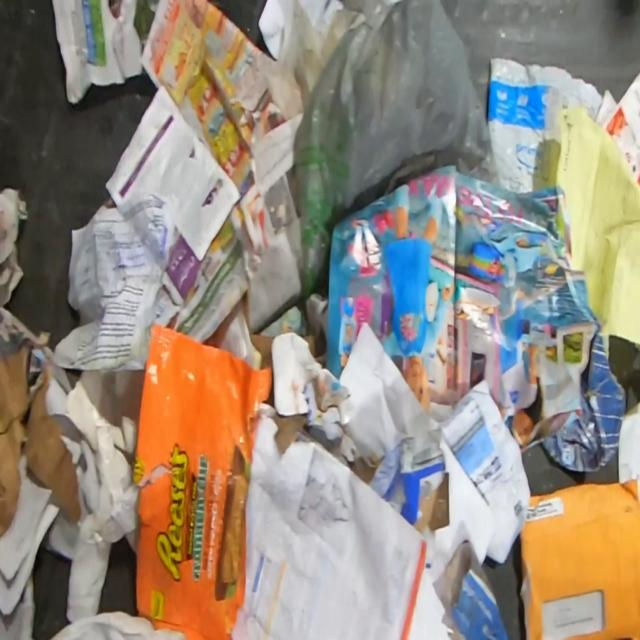cardboard: (132, 320, 272, 640), (518, 474, 640, 640), (0, 342, 82, 541), (249, 329, 351, 456), (538, 334, 626, 476), (64, 368, 143, 504), (345, 445, 450, 538), (430, 538, 511, 640)
soft_plastic: (293, 0, 498, 304), (487, 57, 604, 194)
